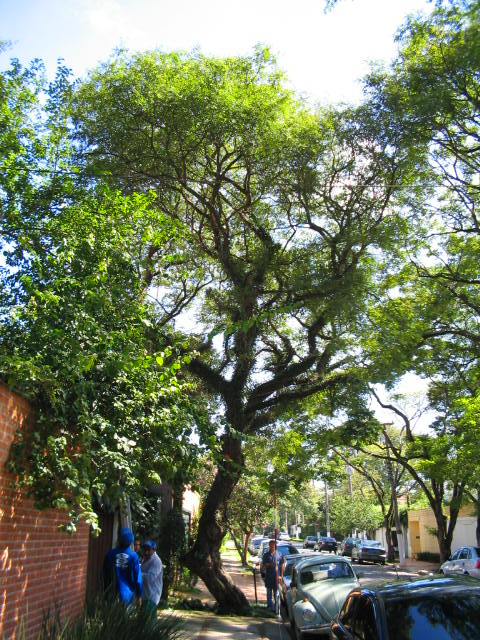crown: (74, 47, 417, 416)
stem: (181, 433, 258, 614)
stick: (269, 486, 284, 616)
tree: (70, 43, 420, 614)
